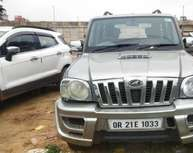OR21E1033: (108, 118, 161, 129)
